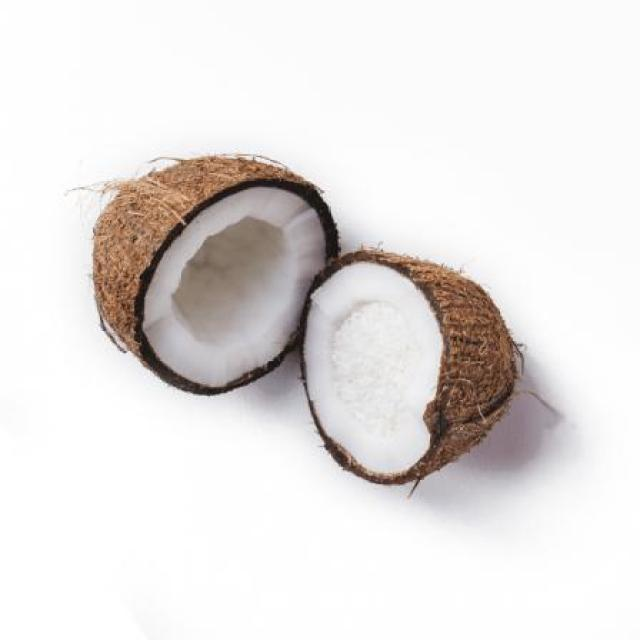Coconut: (72, 151, 344, 390), (294, 254, 526, 493)
